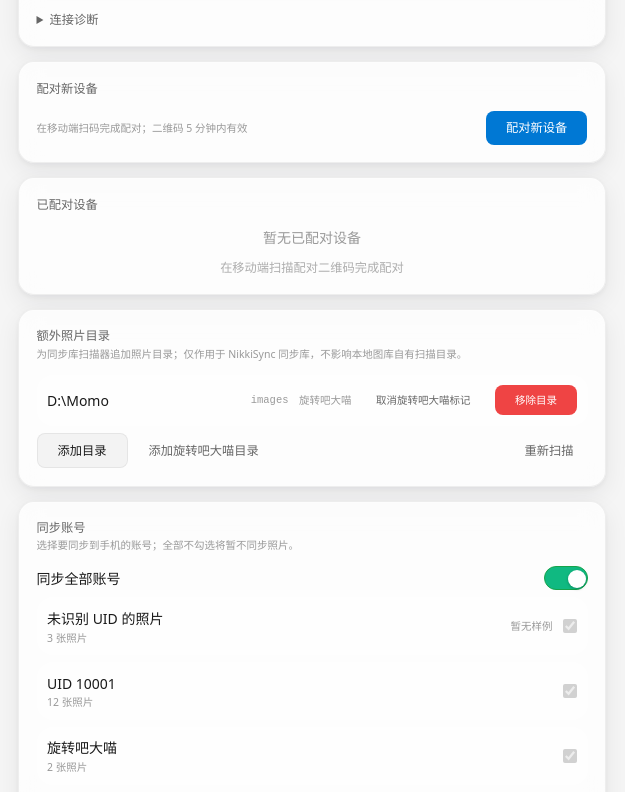
Test: SyncServicePage（真实 NikkiSync 服务，(a)-(p) 自设置页搬入） › (aq) K9：images 目录可切换来源标注，成功后刷新目录与账号
(page scrolled)
Click the button "取消旋转吧大喵标记": (423, 400) [362,385,484,415]
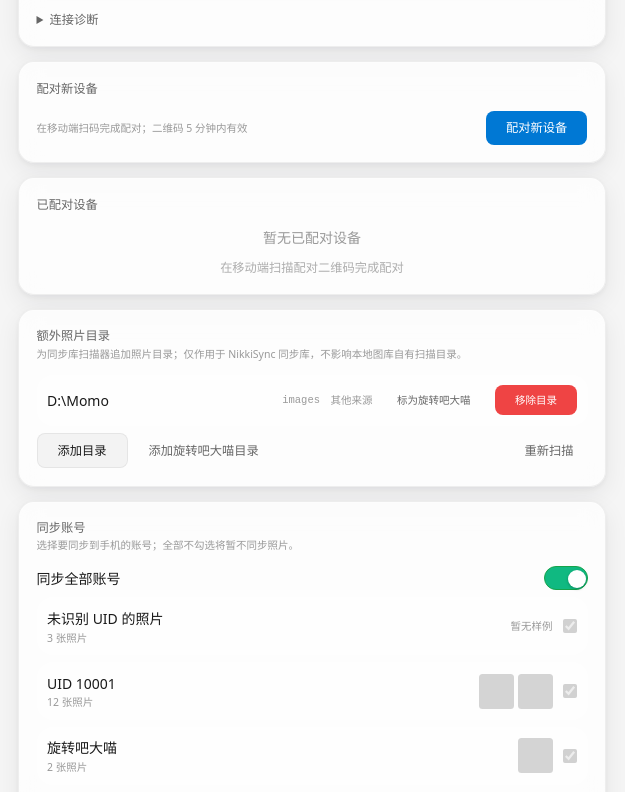
Expected: the button "标为旋转吧大喵" is shown, [383,385,484,415]
